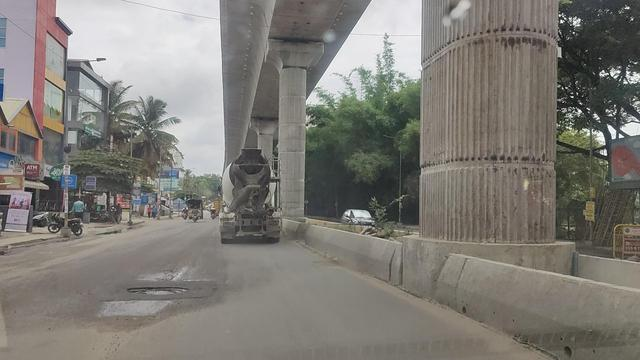HMV: (222, 151, 282, 242)
RoadDamages: (95, 296, 174, 320), (124, 278, 204, 301), (156, 268, 191, 279)
